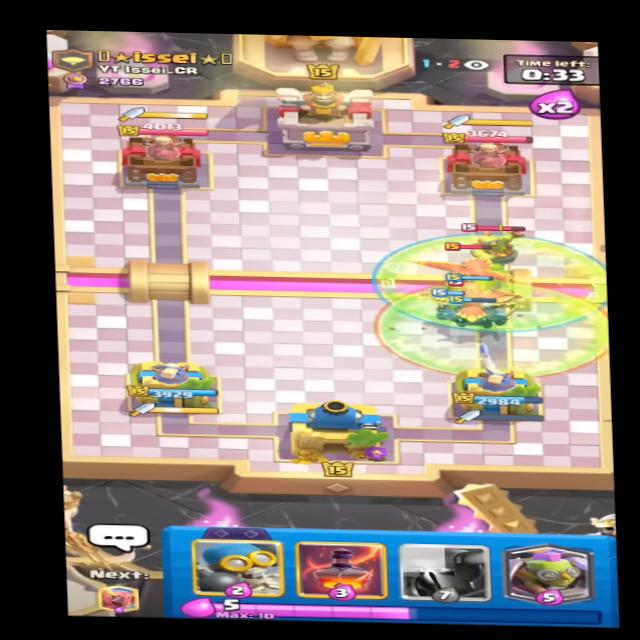goblin-curse: (374, 277, 619, 388)
goblin-demolisher: (457, 219, 543, 265)
phoenix: (407, 241, 516, 290)
